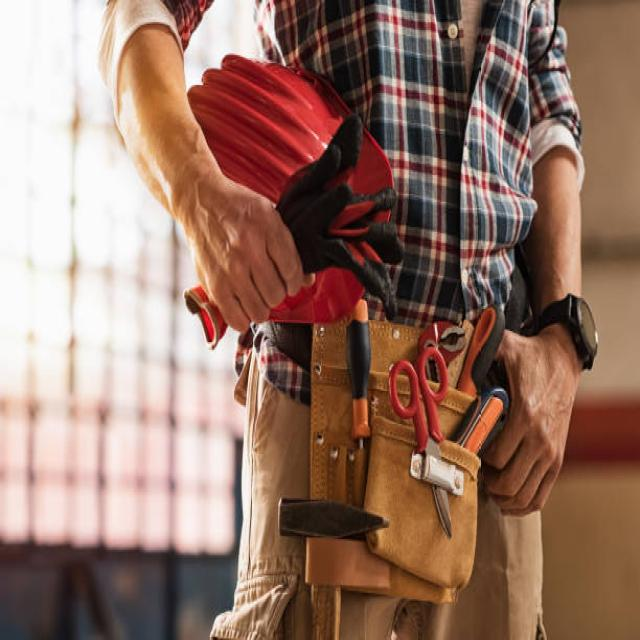gloves: (184, 112, 407, 355)
